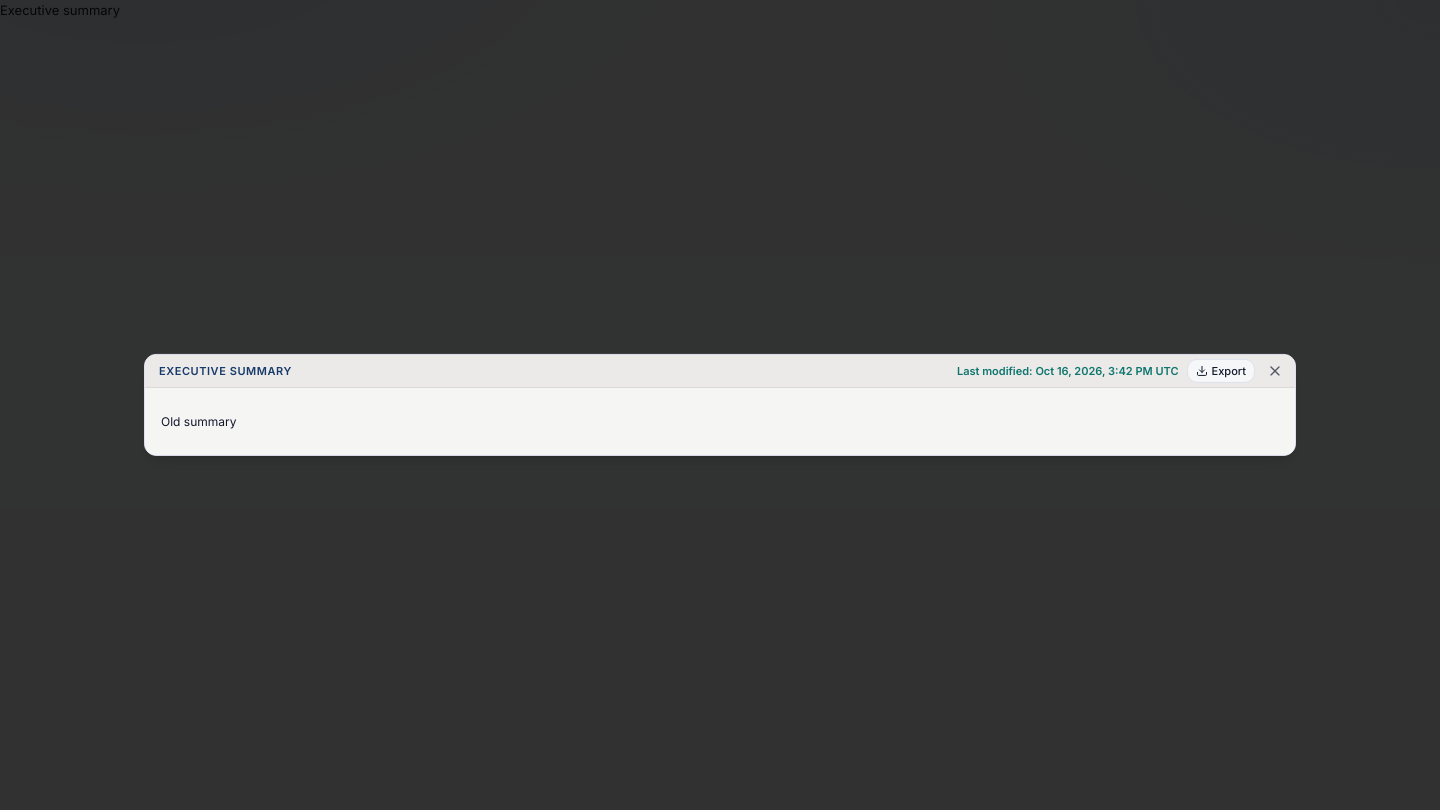
Test: SummaryDialog as a modal dialog › LAY-DLG-005 closes with the Close button
What coordinates should you click on to do the following:
click the button named "Close"
I would click on:
 (1275, 371)
Its box is top-left (1267, 363), bottom-right (1283, 379).
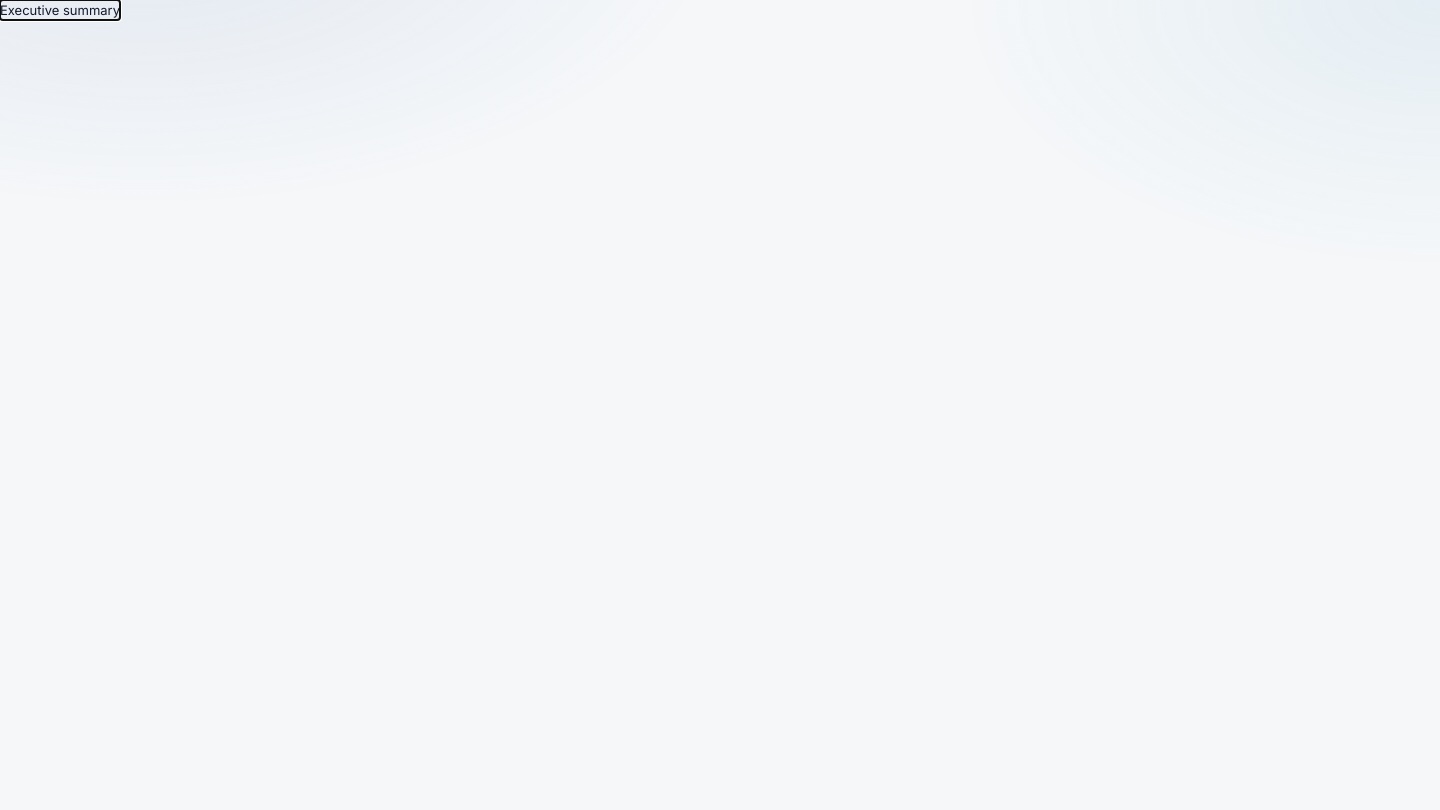
Result: the dialog is gone
